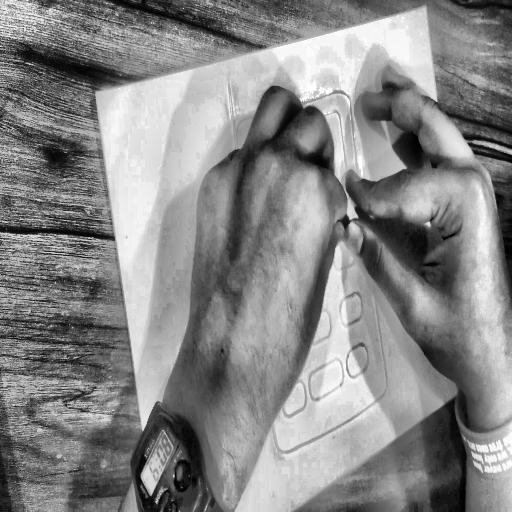bottom_right: (469, 375, 476, 386)
mobile: (218, 40, 404, 472)
top_left: (95, 90, 99, 98)
top_right: (425, 5, 428, 10)
